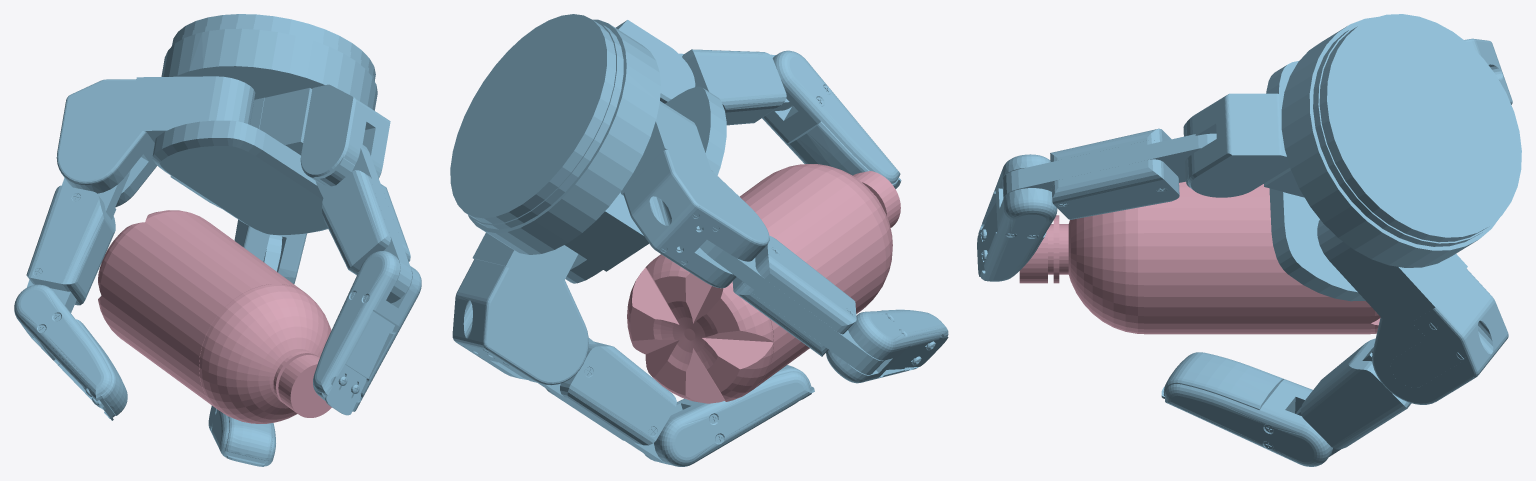
3 views of the same model, side by side, from view 1: azimuth 30°, elevation 25°; view 2: azimuth 150°, elevation 25°; view 3: azimuth 270°, elevation 25° (orthographic). The views are drawn at different scales.
Visible parts, largest first — view 1: world, water_bottle.stl; view 2: world, water_bottle.stl; view 3: world, water_bottle.stl.
Boxes of the visible parts, x1=… form: world: x1=14, y1=14, x2=421, y2=466; water_bottle.stl: x1=98, y1=210, x2=331, y2=423; world: x1=450, y1=14, x2=948, y2=466; water_bottle.stl: x1=627, y1=164, x2=900, y2=403; world: x1=977, y1=14, x2=1521, y2=466; water_bottle.stl: x1=1019, y1=181, x2=1380, y2=334.
Bounding box in the file's own units: 0.1748 × 0.1814 × 0.1931.
